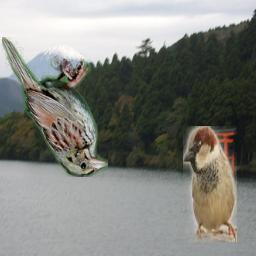Sparrow: (2, 37, 108, 177), (183, 126, 237, 242)
